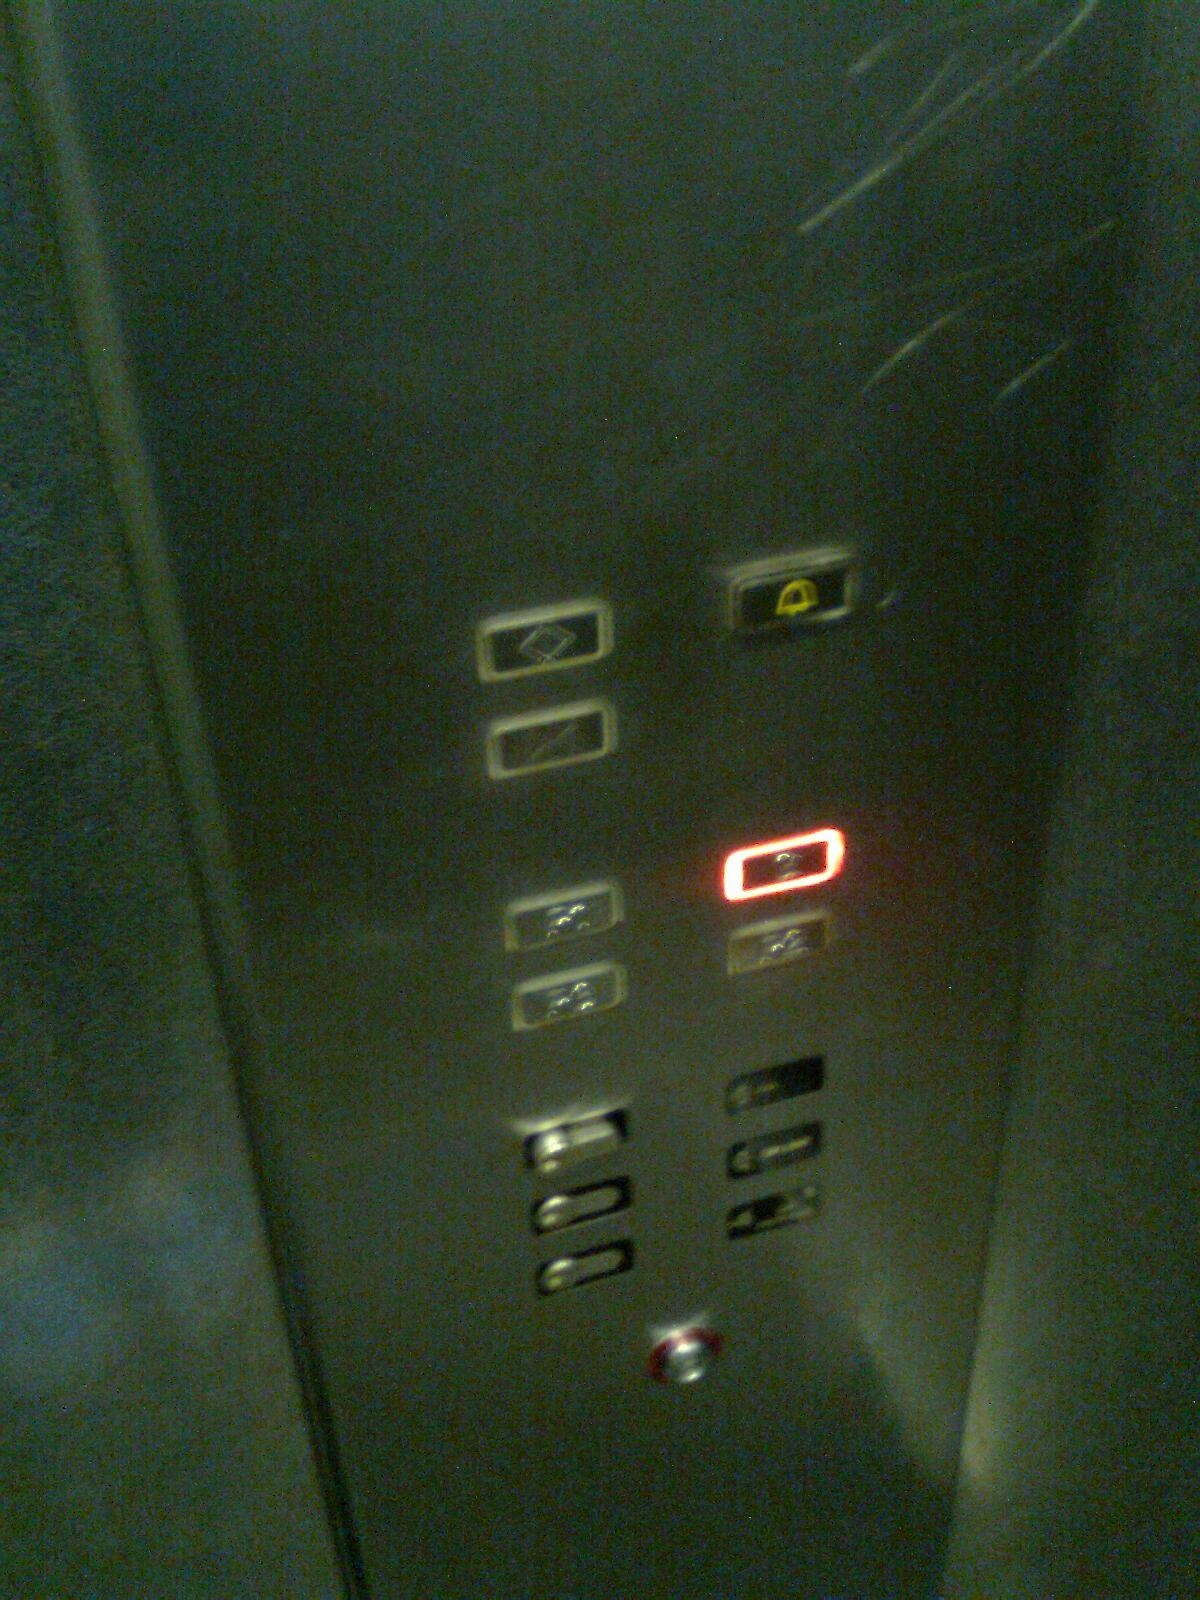2: (724, 829, 845, 898)
alarm: (729, 548, 855, 634)
blur: (500, 879, 625, 957), (511, 963, 626, 1032), (727, 910, 829, 974)
close: (483, 700, 614, 779)
keyhole: (519, 1106, 634, 1173), (528, 1173, 634, 1238), (532, 1235, 635, 1301), (647, 1327, 722, 1391)
open: (471, 598, 615, 685)
